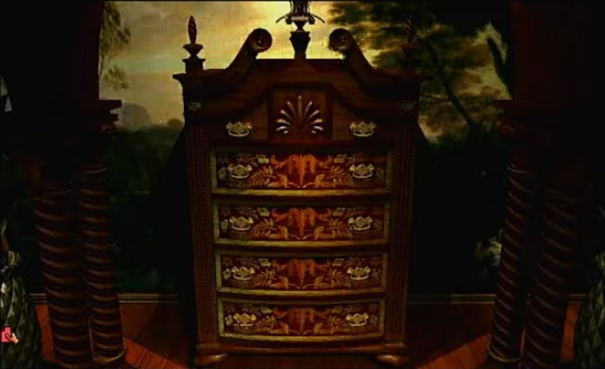Keep: (0, 324, 22, 346)
